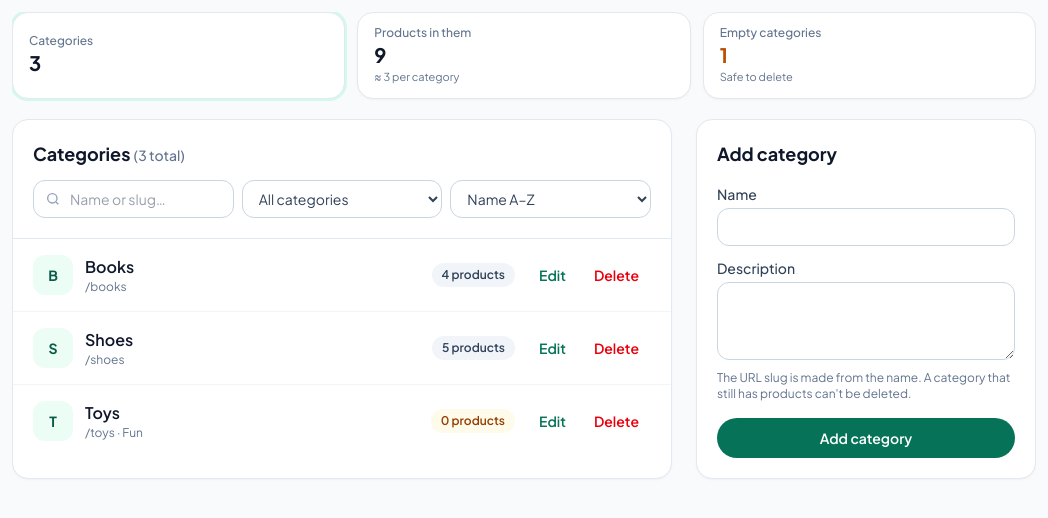
Test case: AdminCategoriesPage › summary, search, show-empty filter and sort work in the browser
Expected: the text with test id "sum-categories" reads "3", [29,50,41,75]
Expected: the text with test id "sum-empty" reads "1", [720,42,728,67]
Select "Most products" in the 2nd dropdown named "Sort by" at (551, 198), box [450,180,651,218]
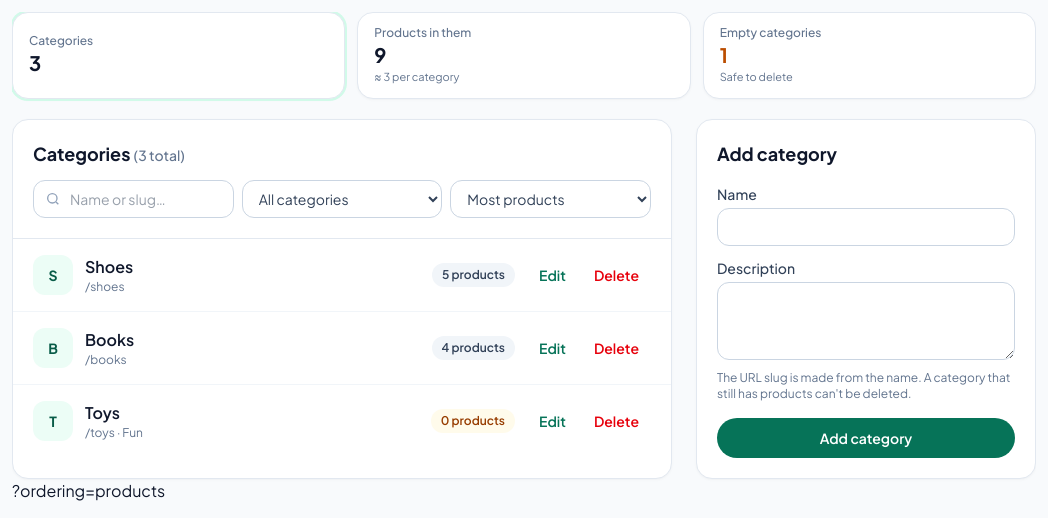
Click the text with test id "sum-empty" at (724, 54), box [720,42,728,67]
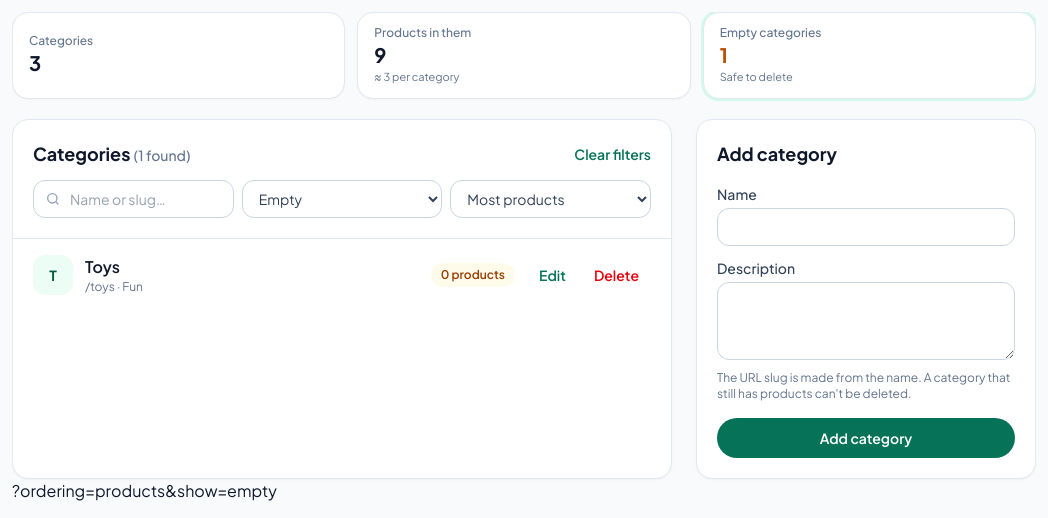
Expected: the number of list items with test id "admin-category-row" is 1, [33,254,651,294]
Expected: the text with test id "where" shows "show=empty", [12,480,277,500]
Click the button "Clear filters" at (613, 154), box [574,144,651,164]
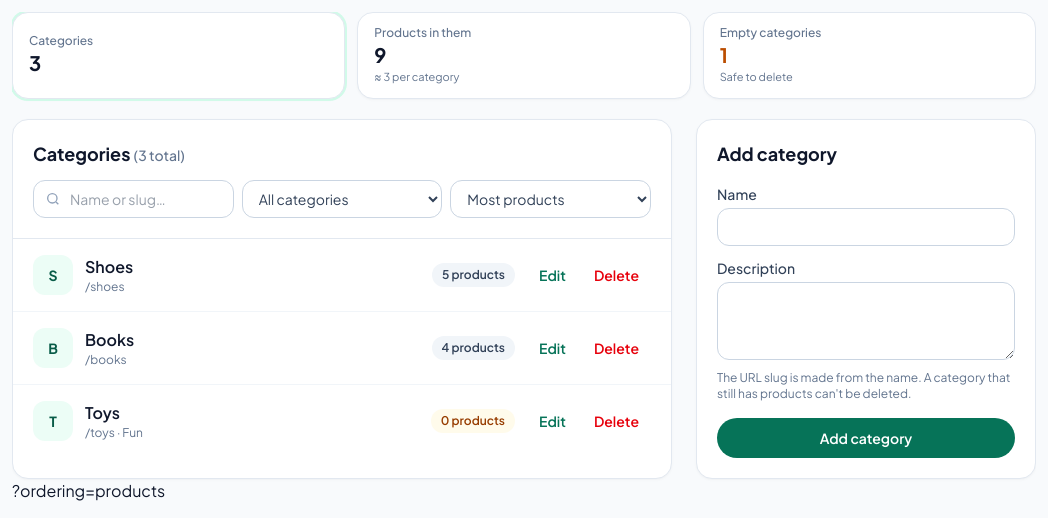
Type "sho" into the search field named "Search categories" at (133, 198), box [33,180,234,218]
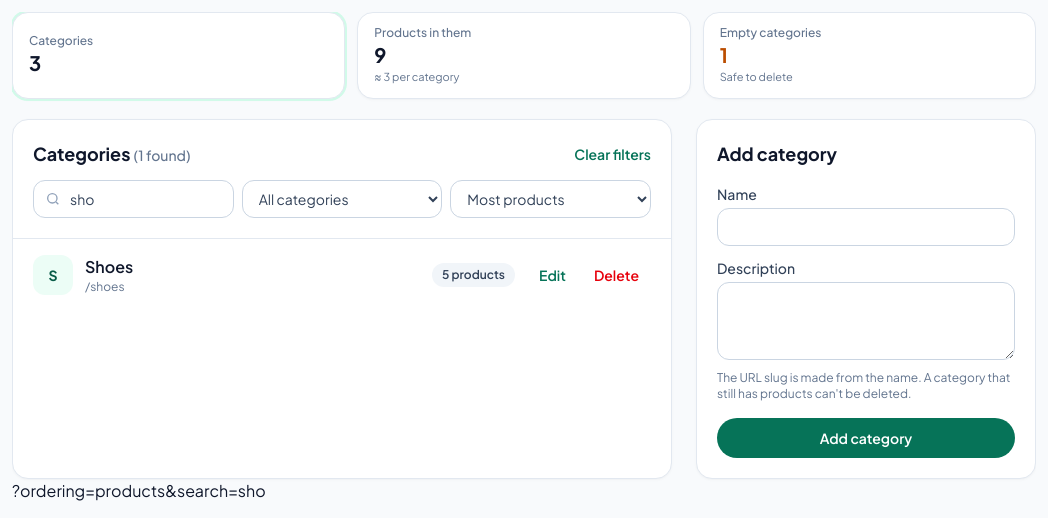
Expected: the number of list items with test id "admin-category-row" is 1, [33,254,651,294]
